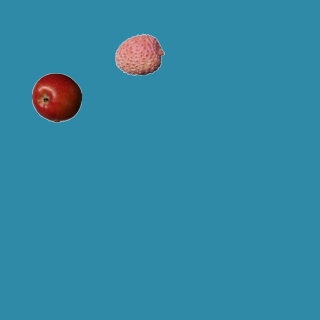Apple Braeburn: (31, 72, 81, 122)
Lychee: (114, 29, 164, 79)
